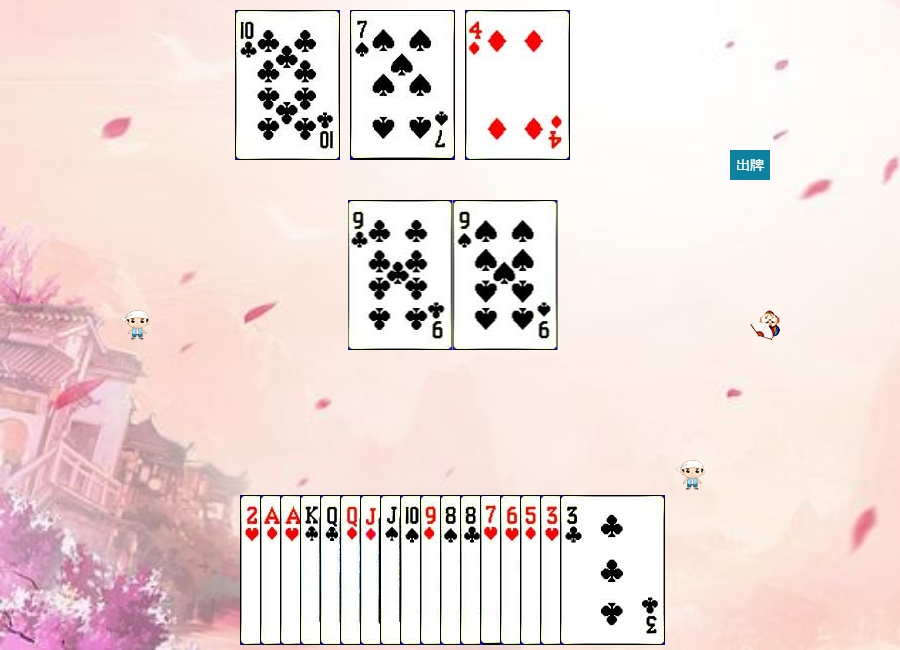10~2: (235, 10, 340, 160)
10~4: (400, 495, 505, 645)
11~1: (360, 495, 465, 645)
11~4: (380, 495, 485, 645)
12~1: (340, 495, 445, 645)
12~2: (320, 495, 425, 645)
13~2: (300, 495, 405, 645)
14~1: (260, 495, 365, 645)
14~3: (280, 495, 385, 645)
15~3: (240, 495, 345, 645)
3~2: (560, 495, 665, 645)
3~3: (540, 495, 645, 645)
4~1: (465, 10, 570, 160)
5~1: (520, 495, 625, 645)
6~3: (500, 495, 605, 645)
7~3: (480, 495, 585, 645)
7~4: (350, 10, 455, 160)
8~2: (460, 495, 565, 645)
8~4: (440, 495, 545, 645)
9~1: (420, 495, 525, 645)
9~2: (348, 200, 453, 350)
9~4: (453, 200, 558, 350)
